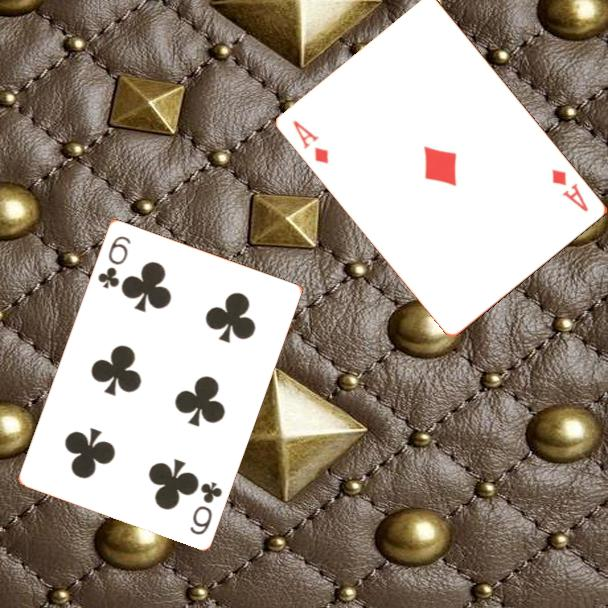c06: (94, 232, 133, 292), (186, 477, 225, 537)
d01: (548, 165, 592, 215), (289, 117, 332, 167)
